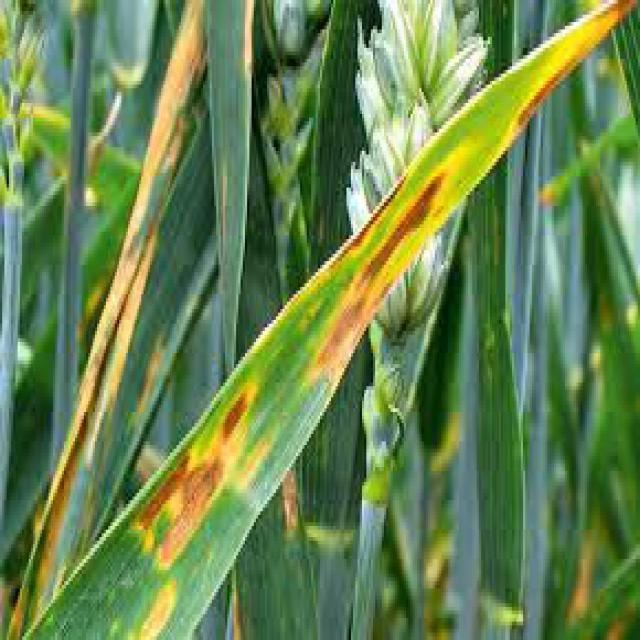wheat-septoria: (77, 6, 609, 640)
